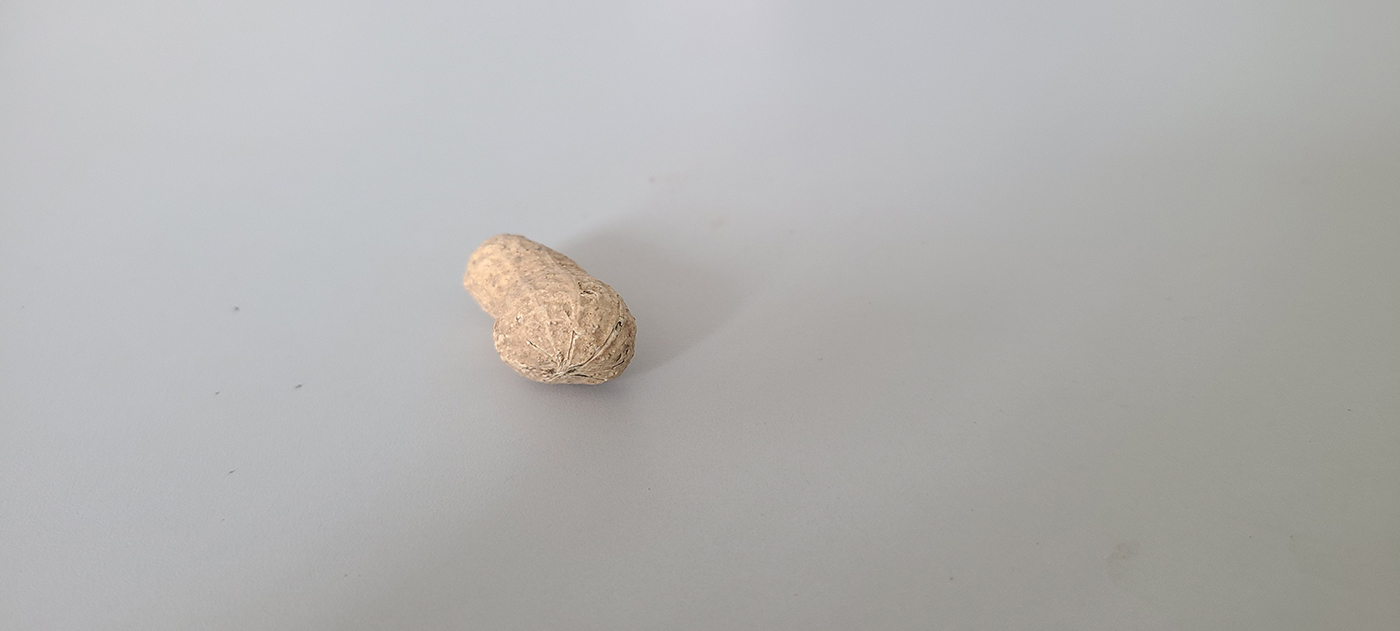h: (461, 229, 635, 384)
